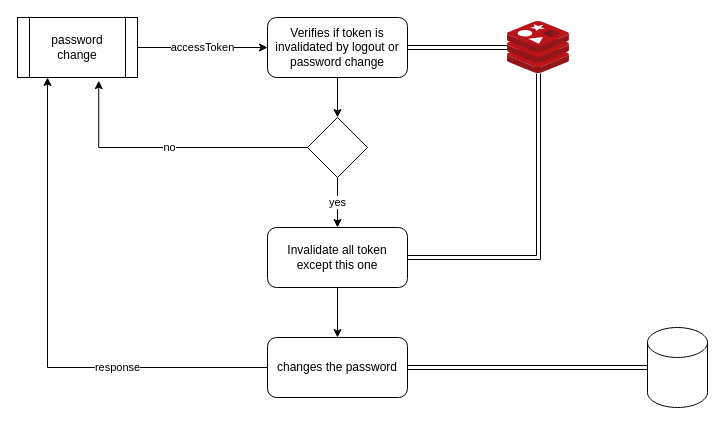
This 725x425 diagram has some shape labels left out. Each missing label, with the box of its shape:
Auth Database: (646, 326, 708, 408)
valid: (306, 116, 368, 178)
